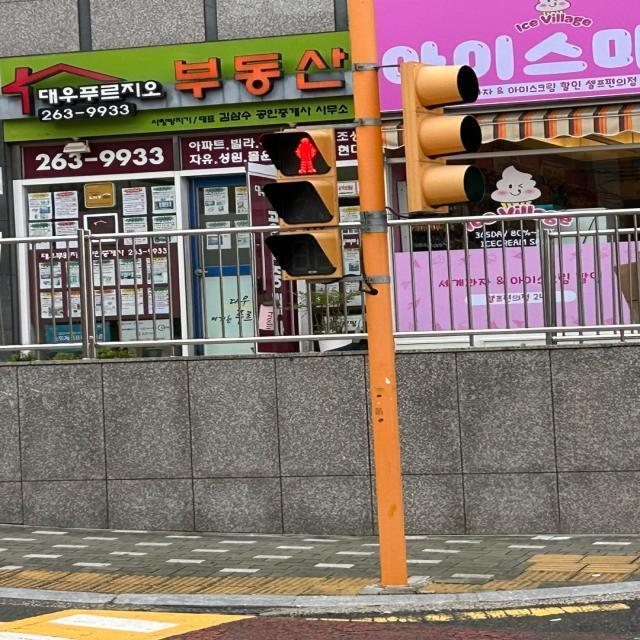red_light: (278, 134, 326, 174)
